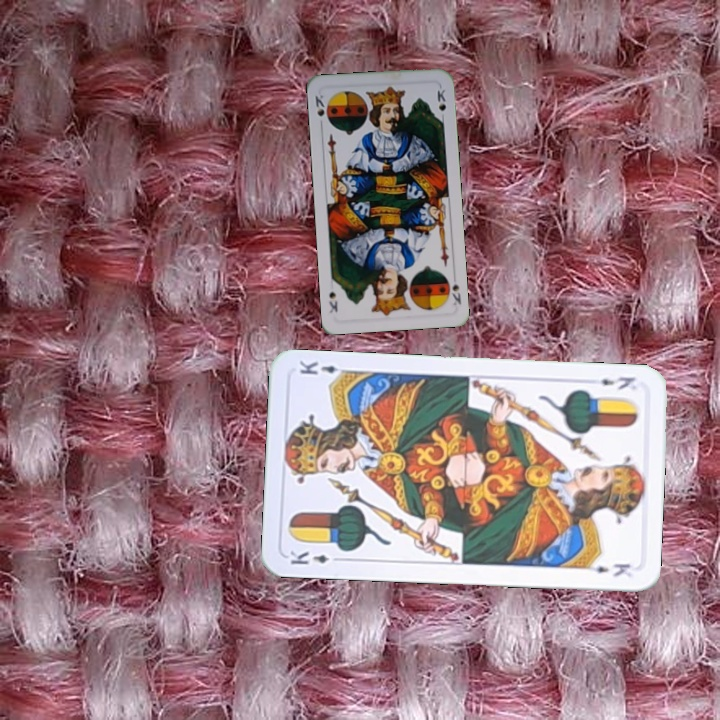EK: (286, 547, 345, 568), (597, 372, 638, 392)
SK: (443, 273, 464, 307), (311, 91, 327, 119)
